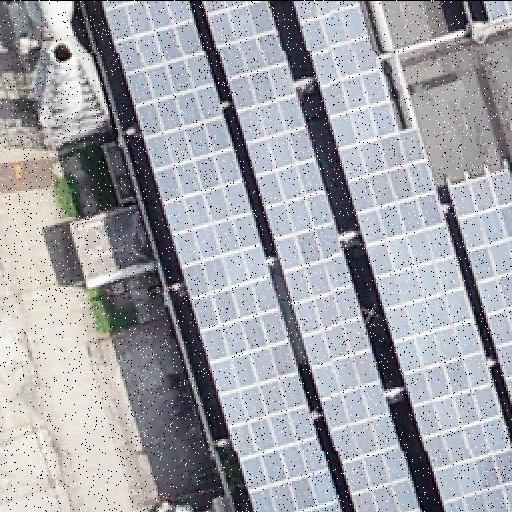solar-panel: (102, 1, 342, 511), (202, 1, 426, 511), (296, 1, 512, 511), (448, 167, 512, 401), (484, 2, 512, 26)
